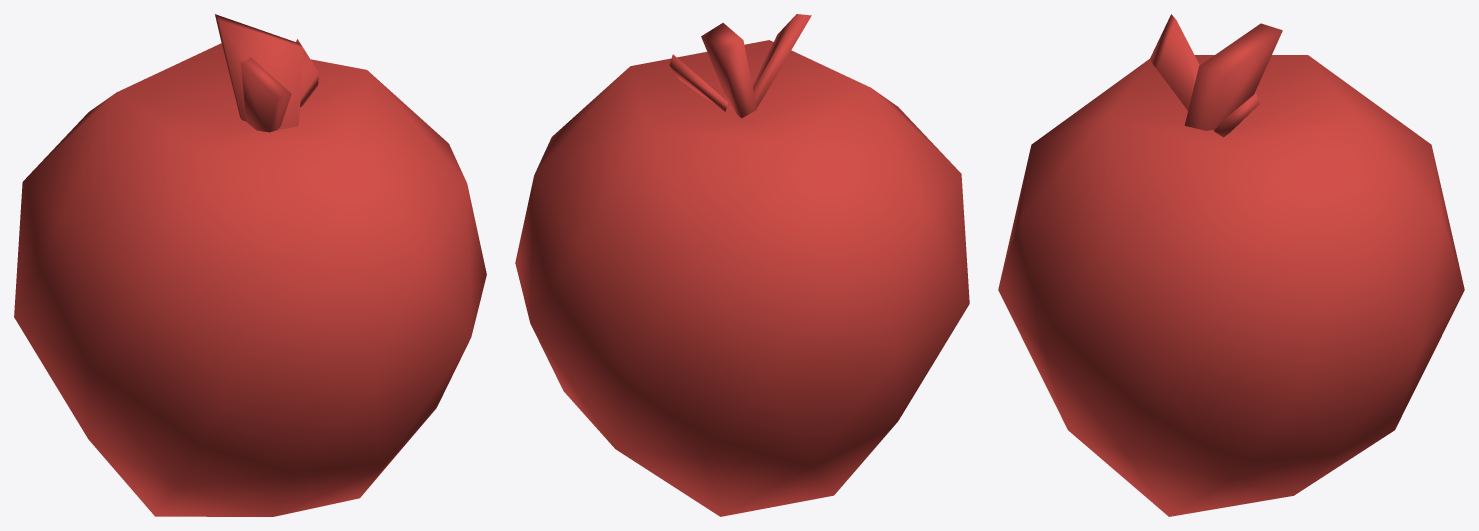
The model's file is 09_fruit_apple.glb.
3 views of the same model, side by side, from view 1: azimuth 30°, elevation 25°; view 2: azimuth 150°, elevation 25°; view 3: azimuth 270°, elevation 25° (orthographic). The views are drawn at different scales.
Parts seen in each view (by area): view 1: Fruit_Apple; view 2: Fruit_Apple; view 3: Fruit_Apple.
Boxes of the visible parts, left/top/right/bottom form: Fruit_Apple: left=14, top=14, right=486, bottom=516; Fruit_Apple: left=515, top=14, right=969, bottom=516; Fruit_Apple: left=998, top=14, right=1464, bottom=516.
Size of the model in its own units: 0.1271 by 0.1421 by 0.1336.
